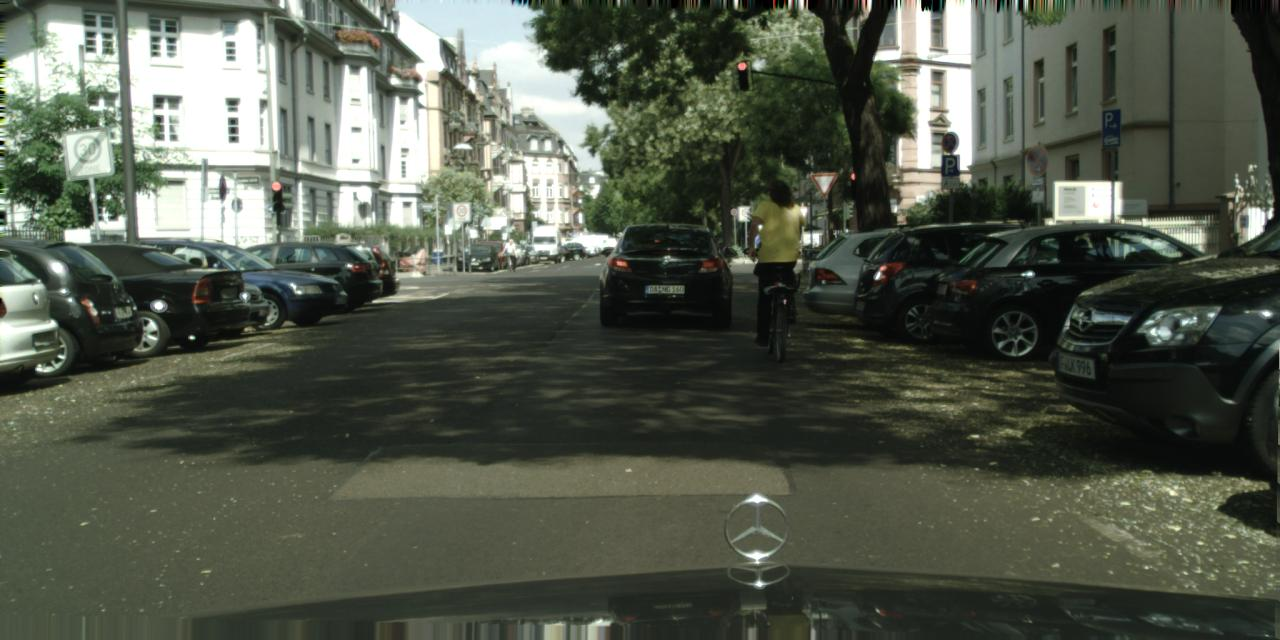ped: (748, 180, 811, 336), (504, 238, 516, 268)
